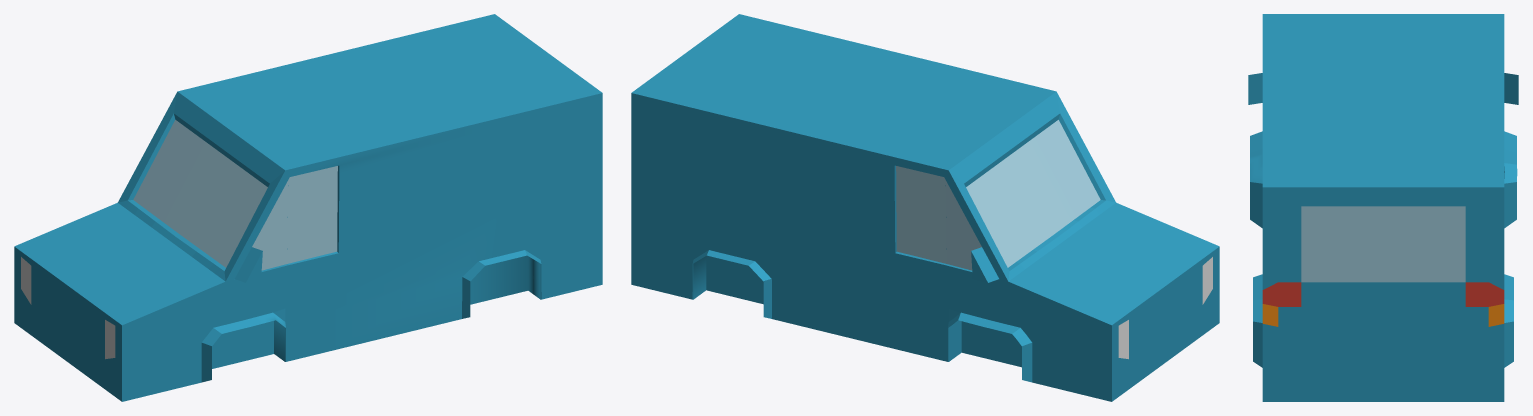
File: blue DigiVan.fbx
3 renders of one model, left to right at view 1: azimuth 30°, elevation 25°; view 2: azimuth 150°, elevation 25°; view 3: azimuth 270°, elevation 25°, orthographic. The views are drawn at different scales.
Parts seen in each view (by area): view 1: Cube; view 2: Cube; view 3: Cube.
Part boxes in pixels (x1=…): Cube: x1=14, y1=14, x2=602, y2=401; Cube: x1=631, y1=14, x2=1219, y2=401; Cube: x1=1248, y1=14, x2=1518, y2=401.
Size of the model in its own units: 952 by 363 by 414.
